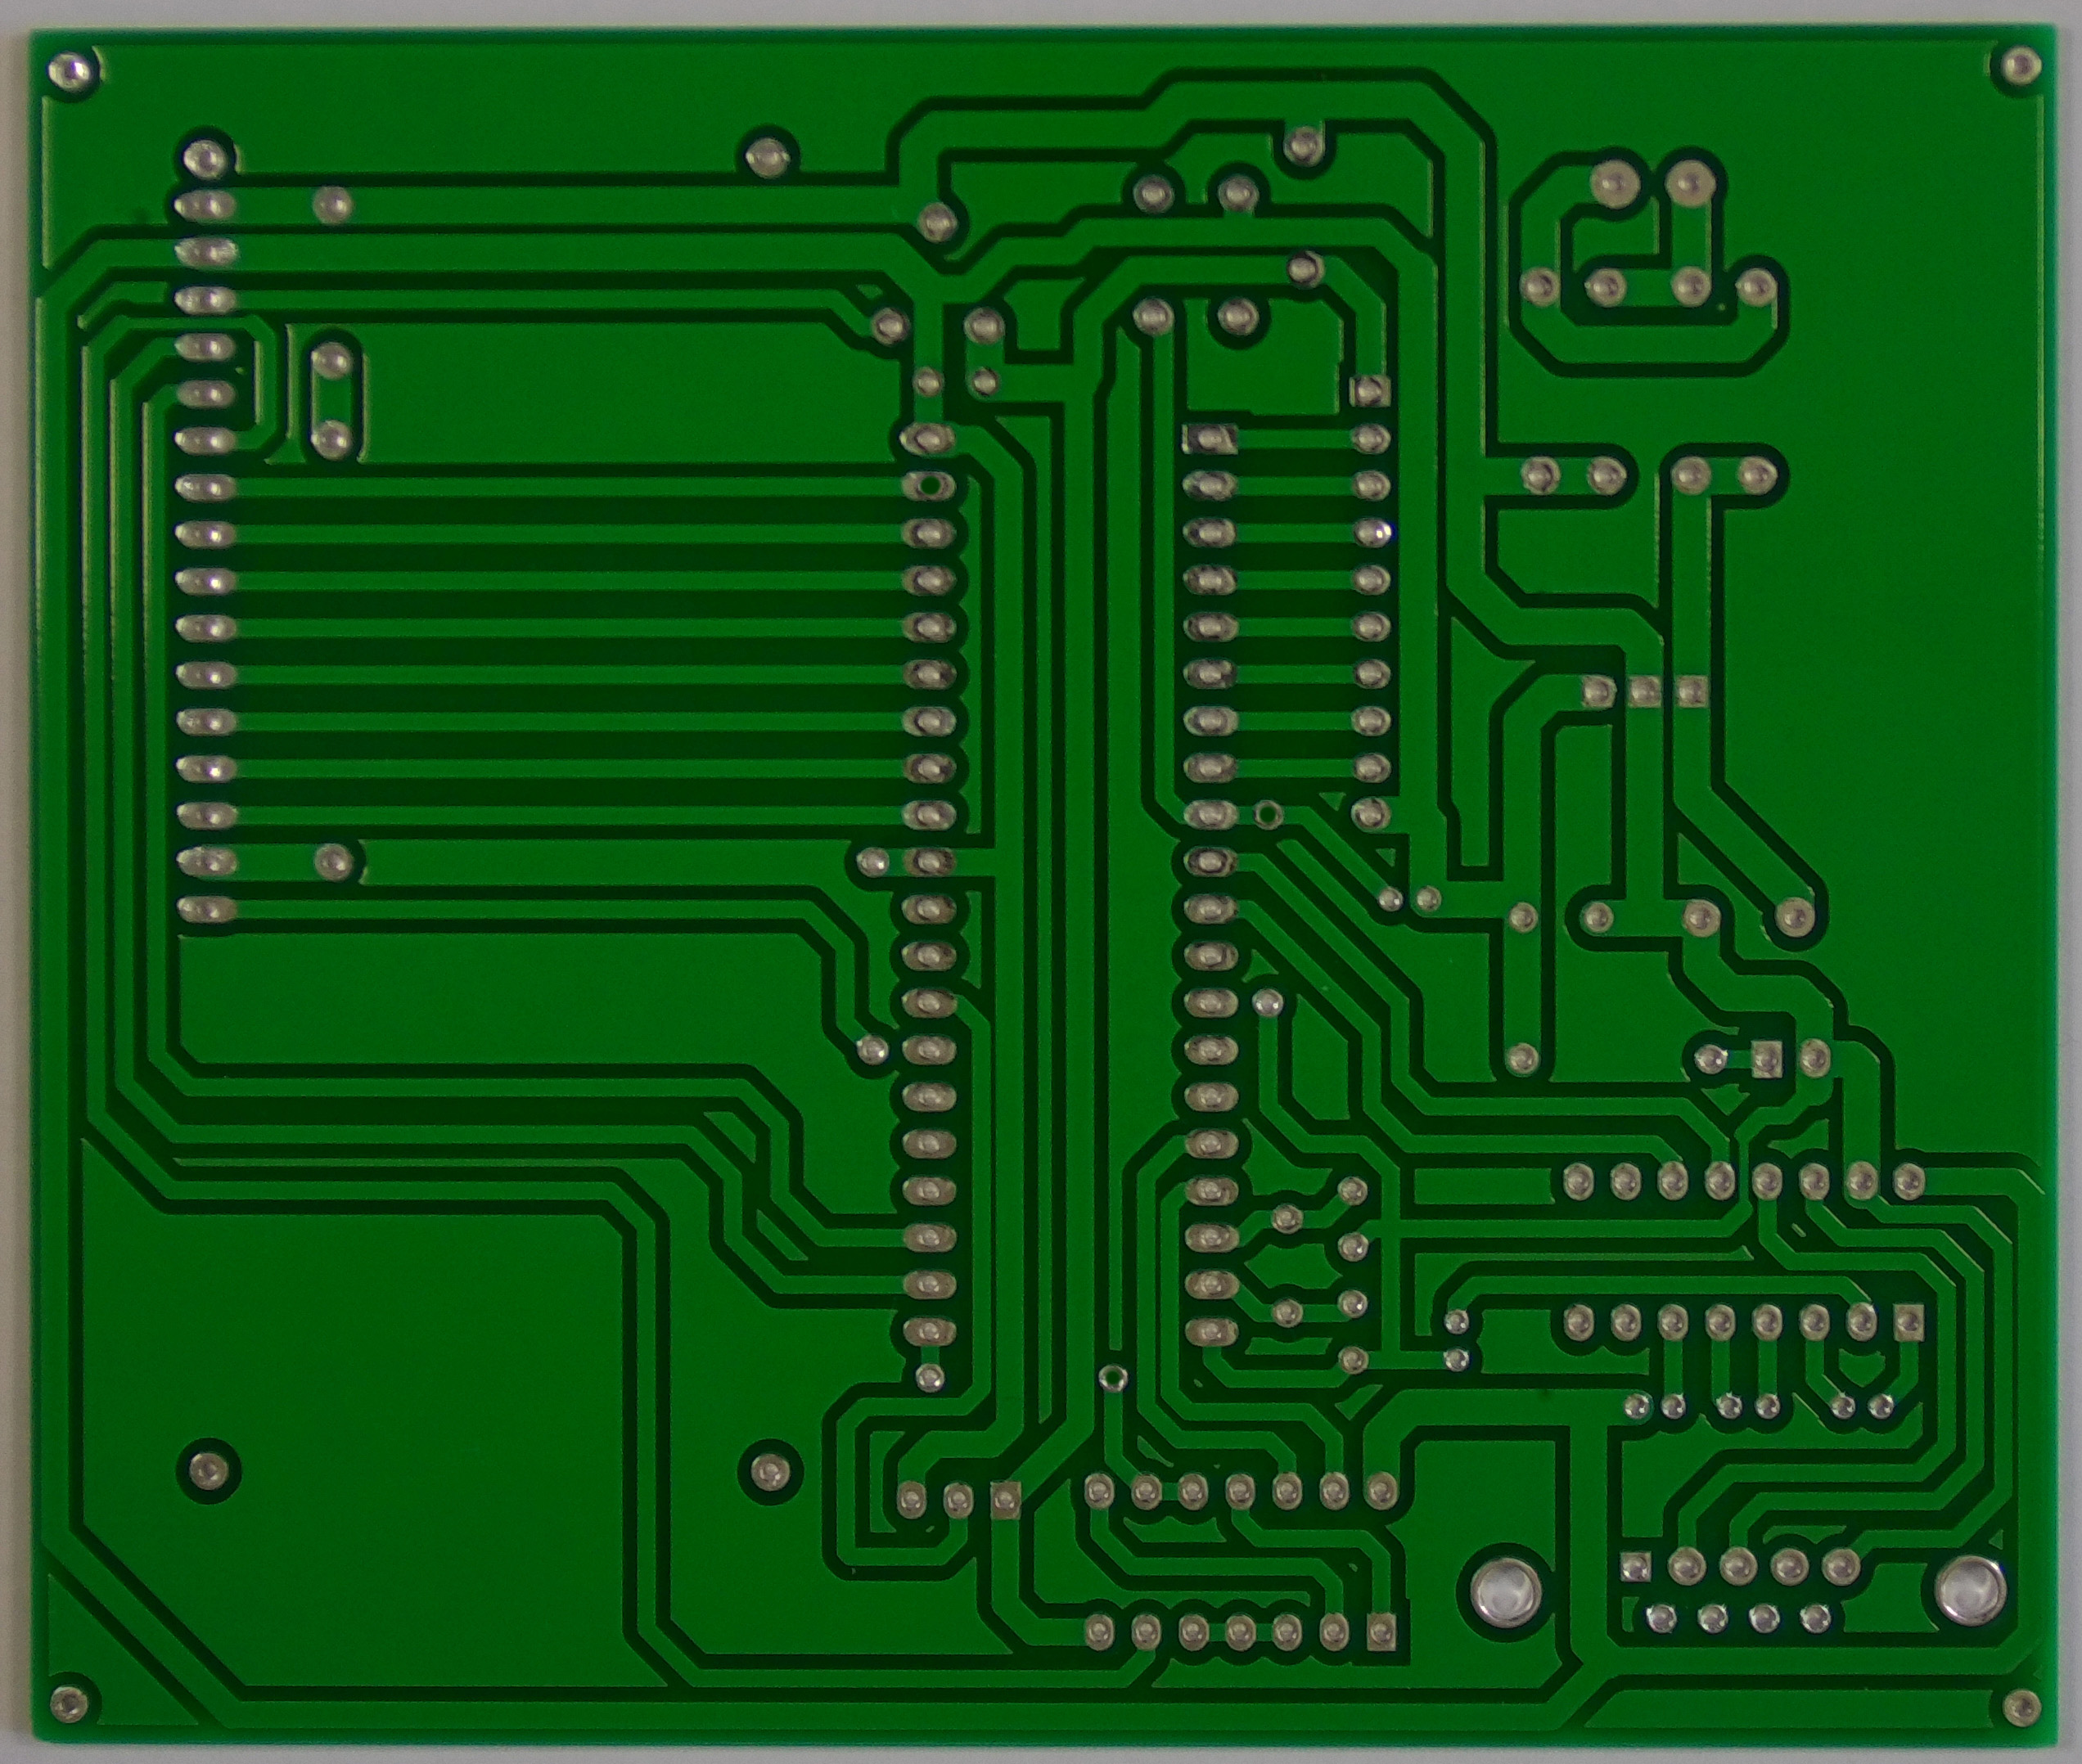missing_hole: (903, 464, 961, 510), (1244, 790, 1284, 839), (1094, 1358, 1135, 1403)
